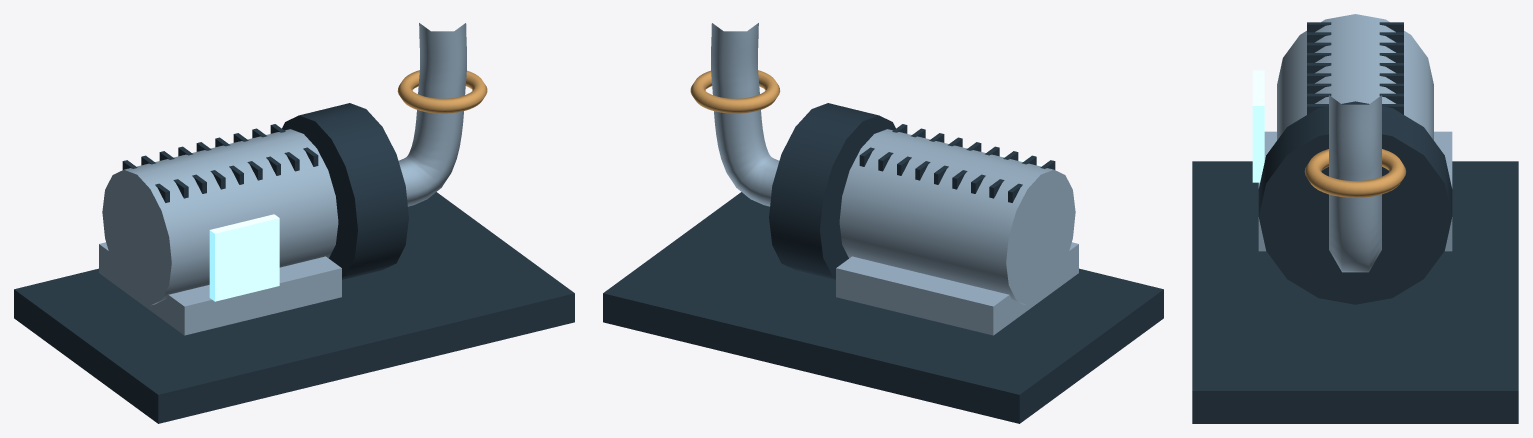
Rendered from pump.glb.
3 views of the same model, side by side, from view 1: azimuth 30°, elevation 25°; view 2: azimuth 150°, elevation 25°; view 3: azimuth 270°, elevation 25° (orthographic). The views are drawn at different scales.
Visible parts, largest first — view 1: preset-pump (×4); view 2: preset-pump (×3); view 3: preset-pump (×4).
Boxes of the visible parts, box(x1,y1,x2,y2) form: preset-pump (×4): box(14, 23, 574, 423); preset-pump (×3): box(603, 23, 1163, 423); preset-pump (×4): box(1192, 14, 1518, 423).
Bounding box in the file's own units: 4.5 × 2.7 × 2.7.
